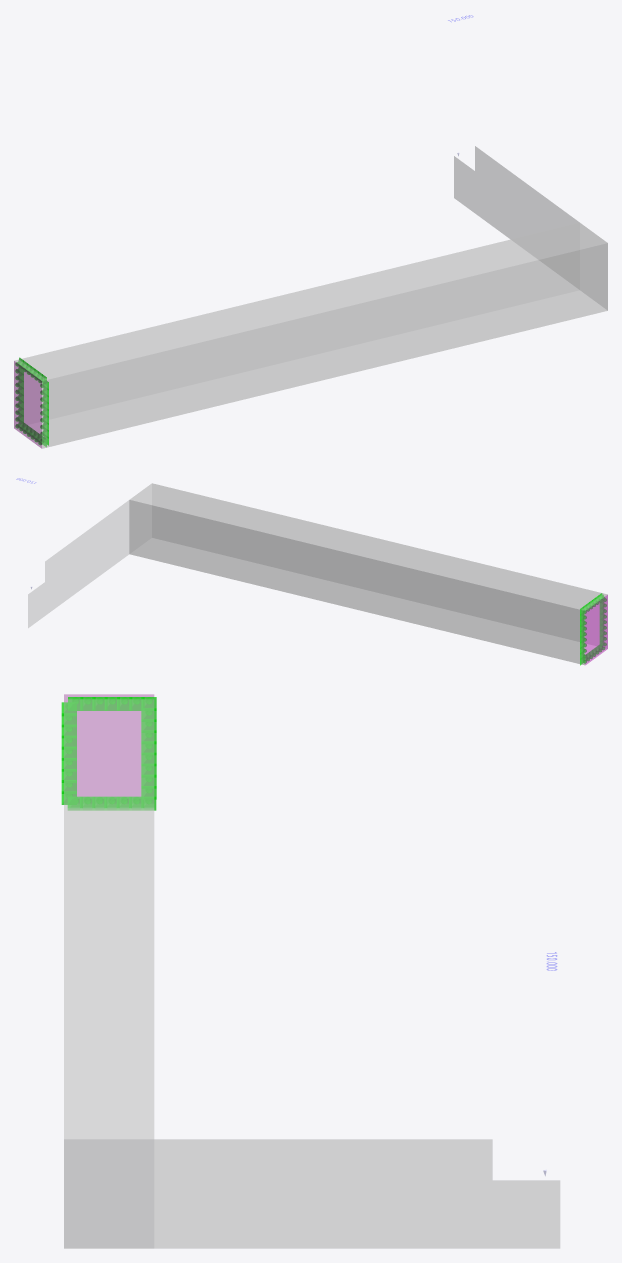
Rendered from UebungTorsion_3d_neigung_.glb.
3 views of the same model, one above another, from view 1: azimuth 30°, elevation 25°; view 2: azimuth 150°, elevation 25°; view 3: azimuth 270°, elevation 25° (orthographic). The views are drawn at different scales.
Parts seen in each view (by area): view 1: Topology (×3); view 2: Topology (×3); view 3: Topology (×3).
Boxes of the visible parts, x1,y1,x2,y2 form: Topology (×3): (14, 146, 607, 448); Topology (×3): (28, 483, 607, 665); Topology (×3): (61, 694, 559, 1248).
Size of what is drawn, in the model's own units: 7.22 by 2.15 by 3.32.
5 materials, 1 textured.
